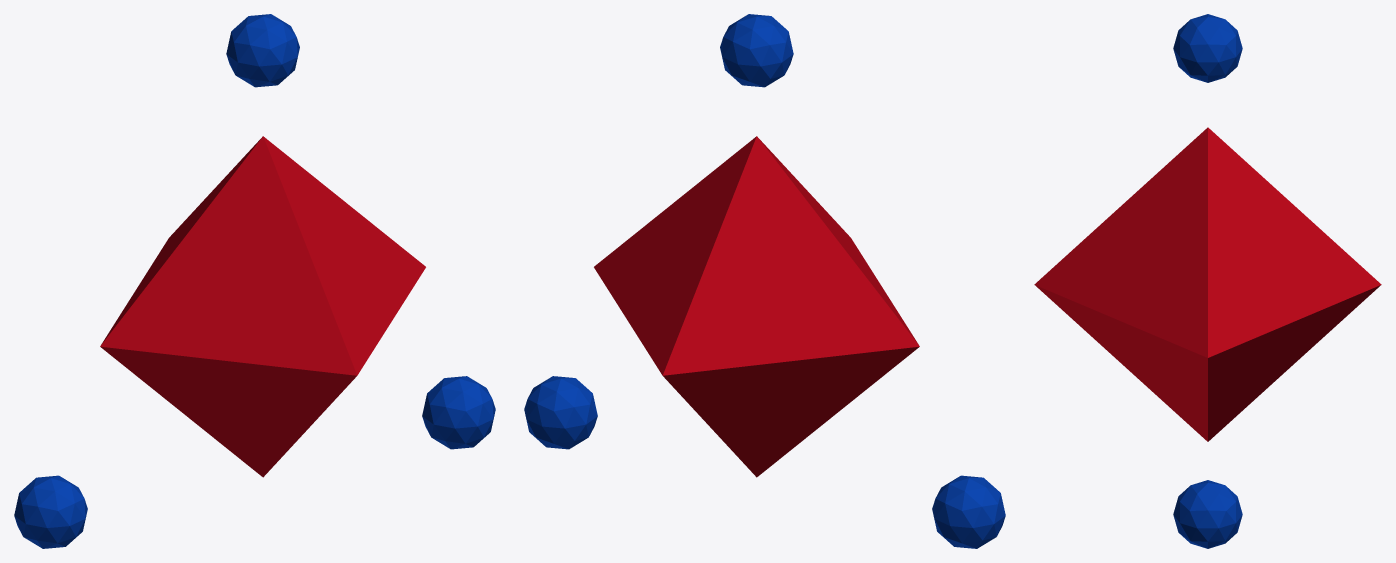
Rendered from crystal.obj.
3 views of the same model, side by side, from view 1: azimuth 30°, elevation 25°; view 2: azimuth 150°, elevation 25°; view 3: azimuth 270°, elevation 25° (orthographic). The views are drawn at different scales.
Parts seen in each view (by area): view 1: 立方体; view 2: 立方体; view 3: 立方体.
Part boxes in pixels (x1,y1,x2,y2): 立方体: [14, 14, 495, 548]; 立方体: [524, 14, 1005, 548]; 立方体: [1034, 14, 1381, 548].
Size of the model in its own units: 2.88 by 2.8 by 2.
Materials: 1 (1 with a texture image).
